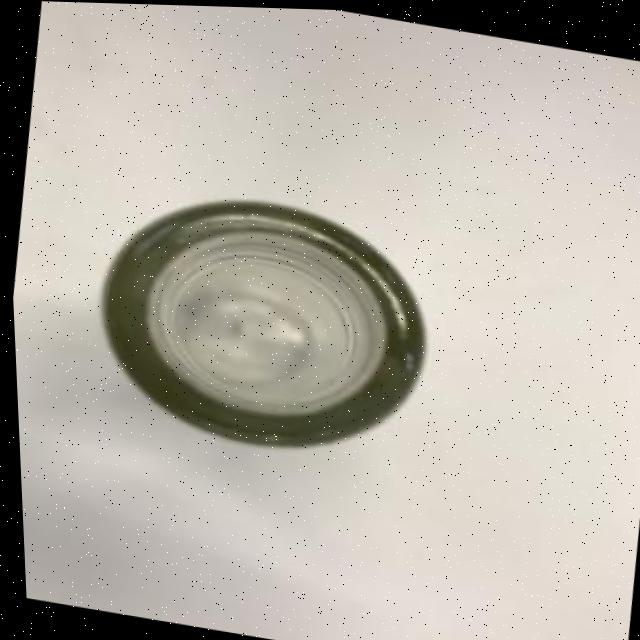glass: (62, 163, 465, 482)
